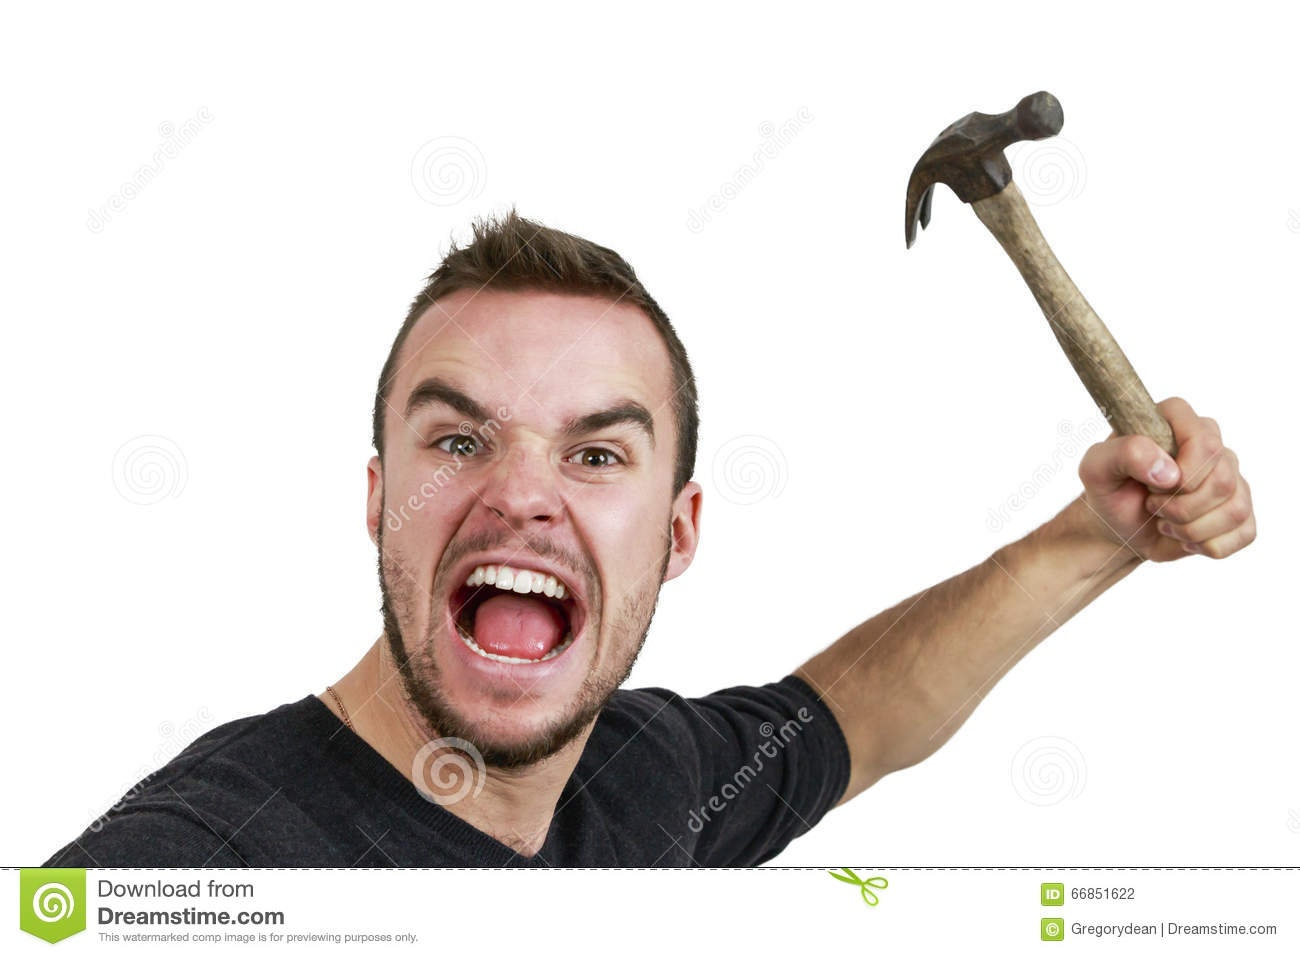hammer: (899, 87, 1248, 559)
person: (50, 213, 958, 879)
